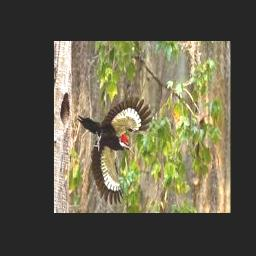Woodpecker: (77, 95, 155, 203)
